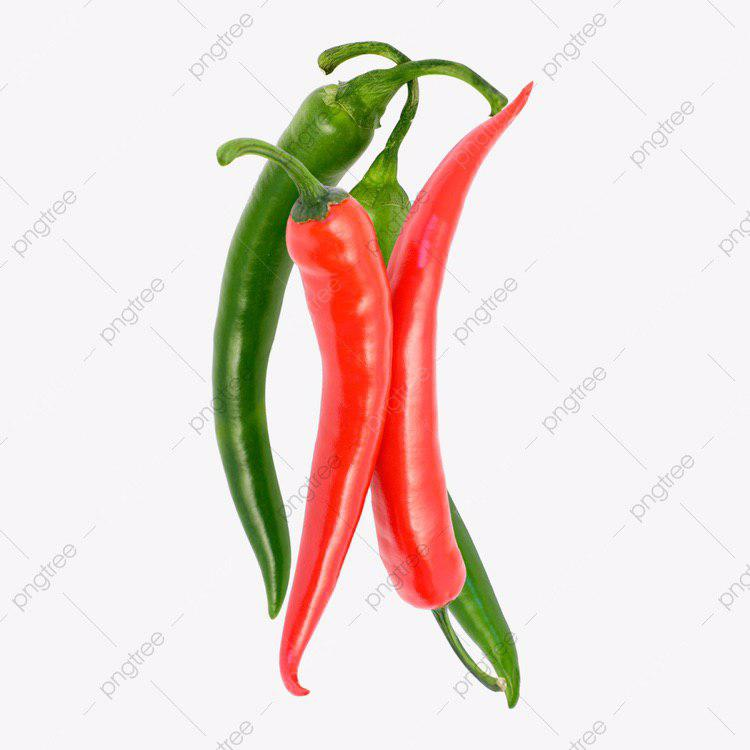lada hijau: (159, 72, 387, 650)
lada merah: (352, 100, 557, 612), (276, 174, 391, 700)
